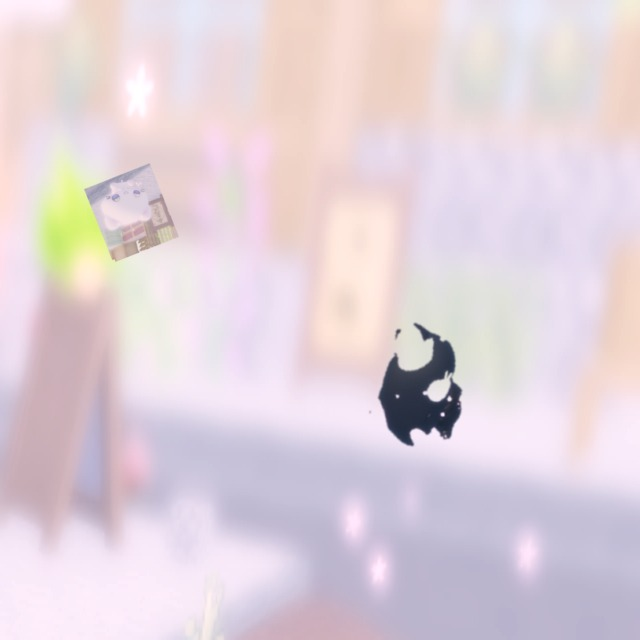urso_branco: (84, 163, 179, 263)
urso_preto: (352, 300, 489, 474)
